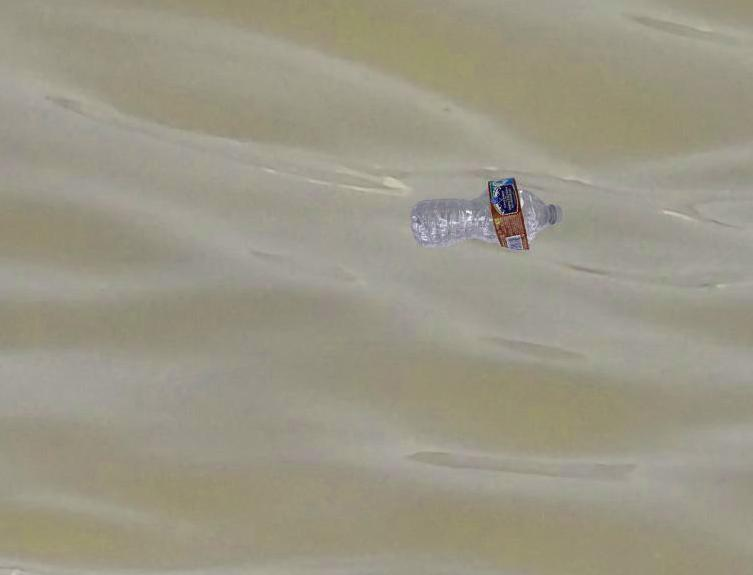Plastic: (408, 178, 563, 256)
